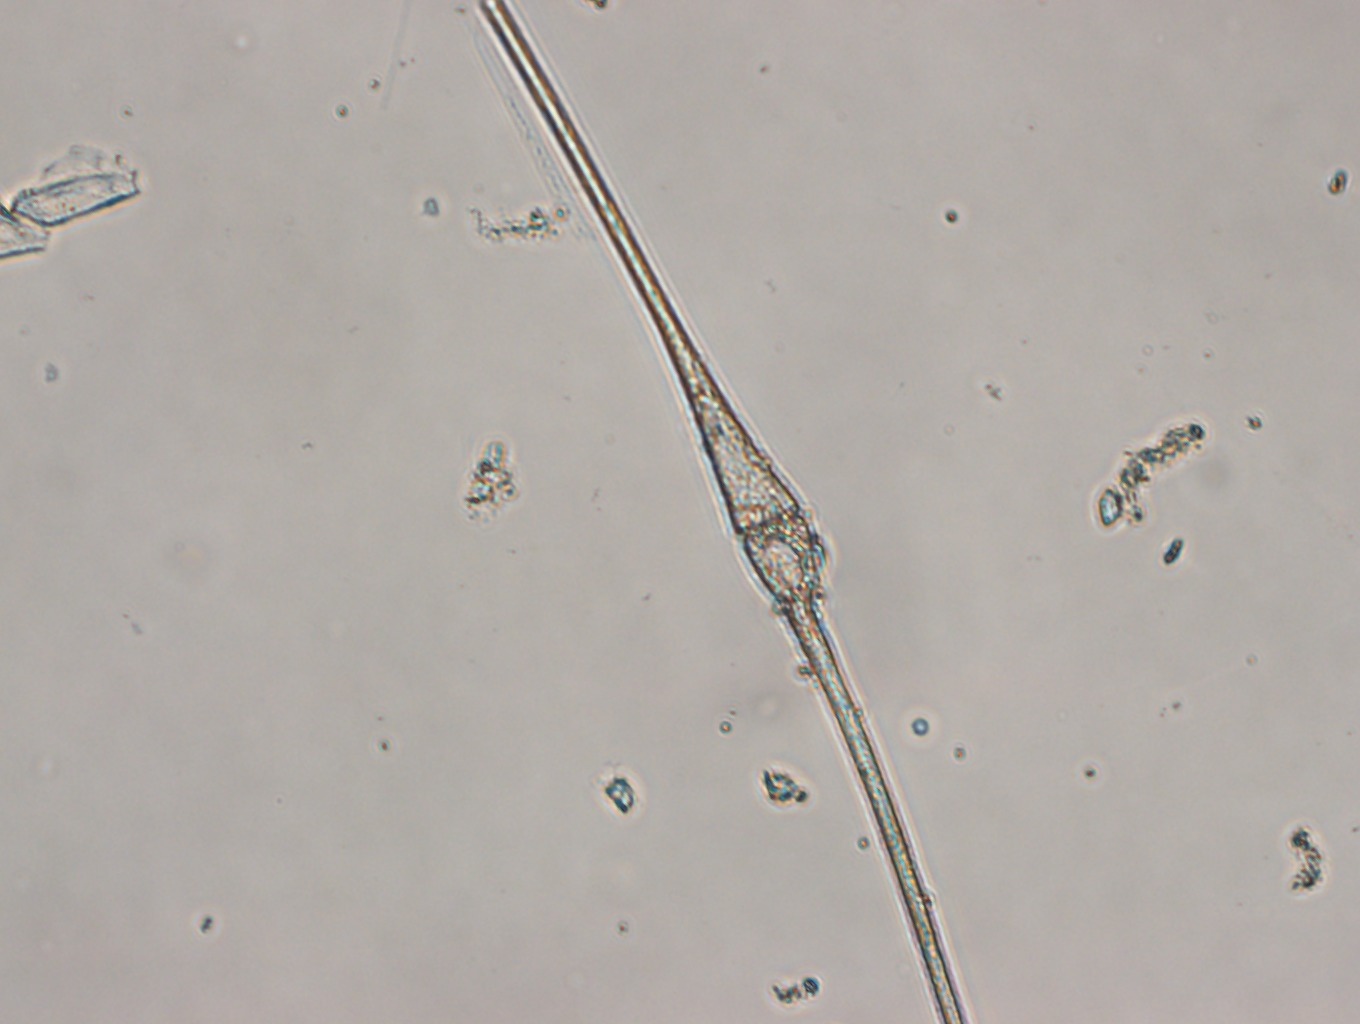ceratium fusus: (485, 4, 965, 1024)
